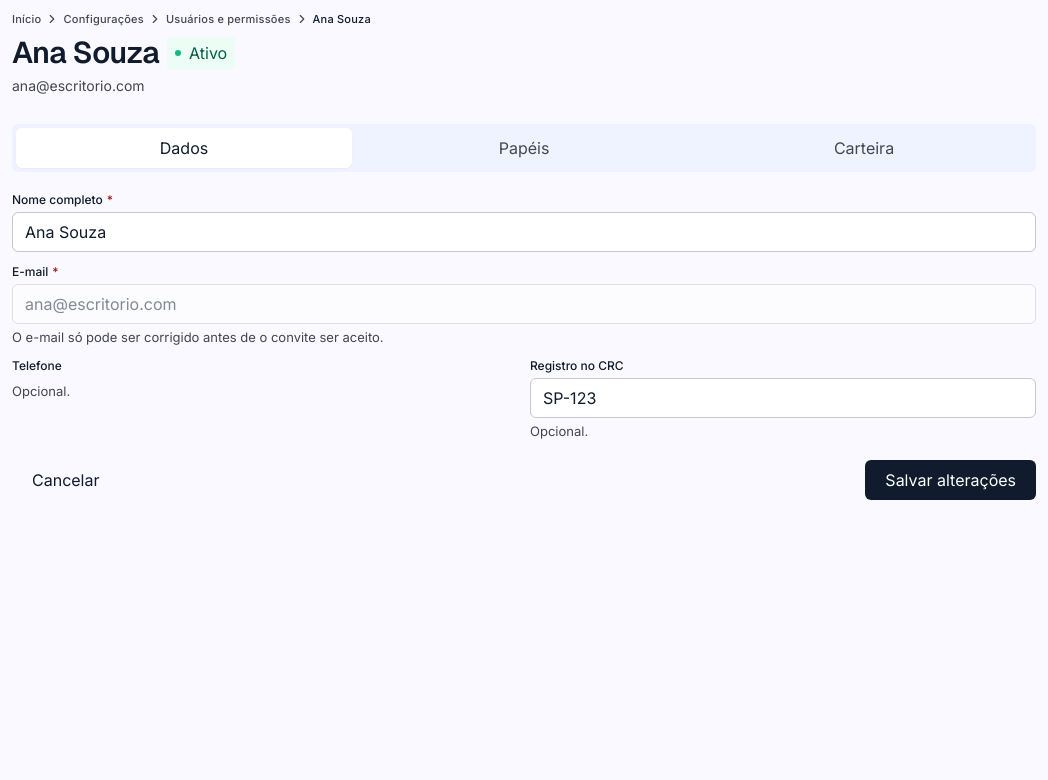
Scenario: abas Dados e Papéis (administrador) › a aba Papéis mostra os papéis atuais marcados
Expected: the field labelled "Nome completo*" is shown, [12,212,1036,252]
Click the tab "Papéis". click: (524, 148)
box: [356,128,692,168]
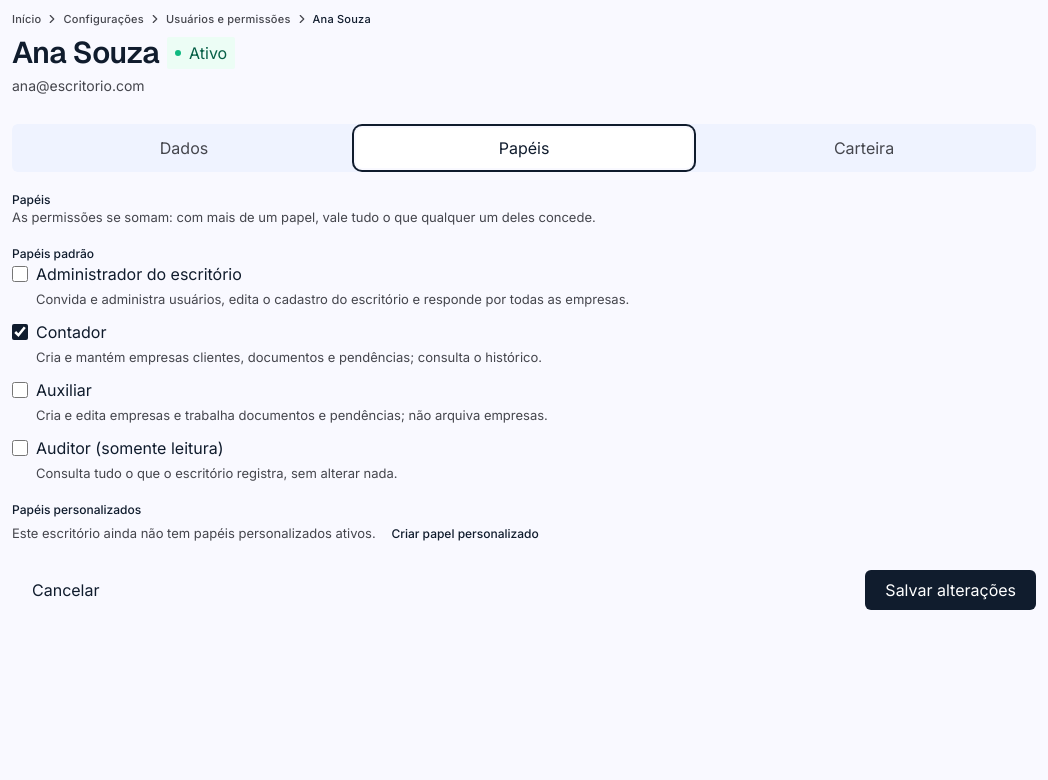
Now the checkbox labelled "Contador" is checked, box [12,324,28,340]
Now the checkbox labelled "Auxiliar" is not checked, box [12,382,28,398]
